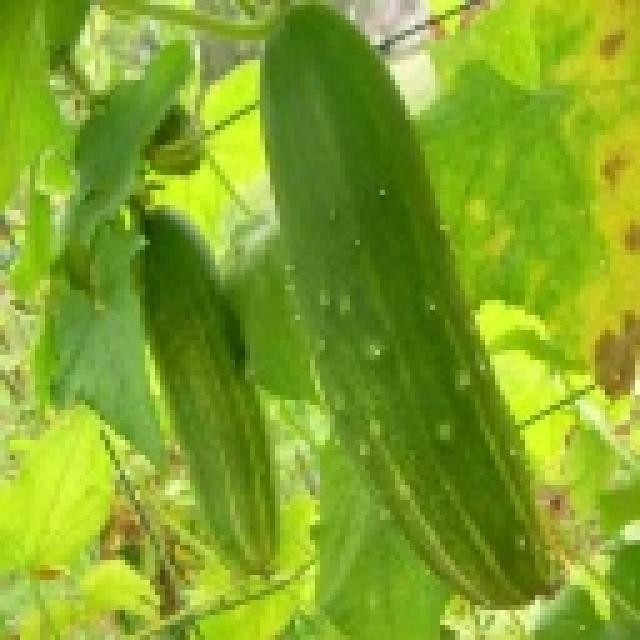Cucumber: (258, 2, 559, 614), (133, 202, 266, 562)
